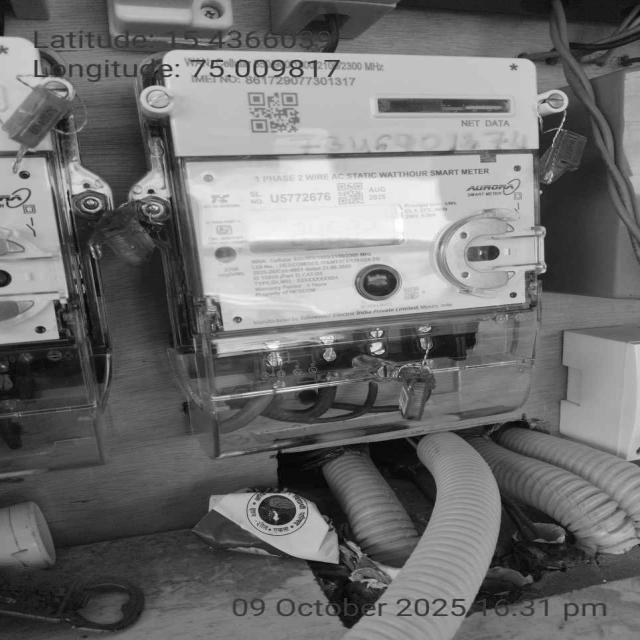meter: (164, 48, 544, 315)
